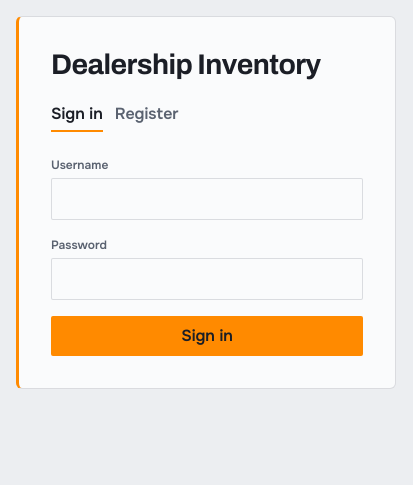
Test: Login page › shows role field only in register mode
Expected: the field labelled "Role" is not shown
What coordinates should you click on to do the following:
click the button "Register"
I would click on:
 (147, 115)
Its box is [115,98,178,132].
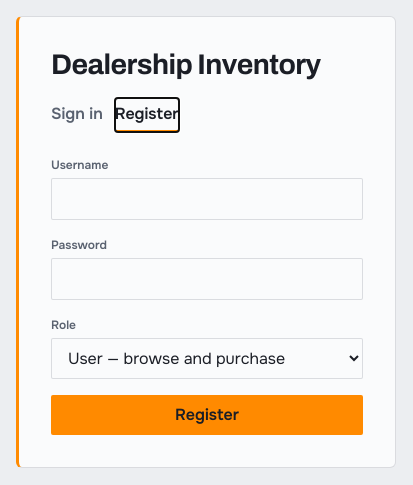
Expected: the dropdown labelled "Role" is shown, [51,338,363,379]
